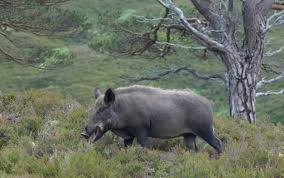wildboar: (77, 82, 225, 154)
